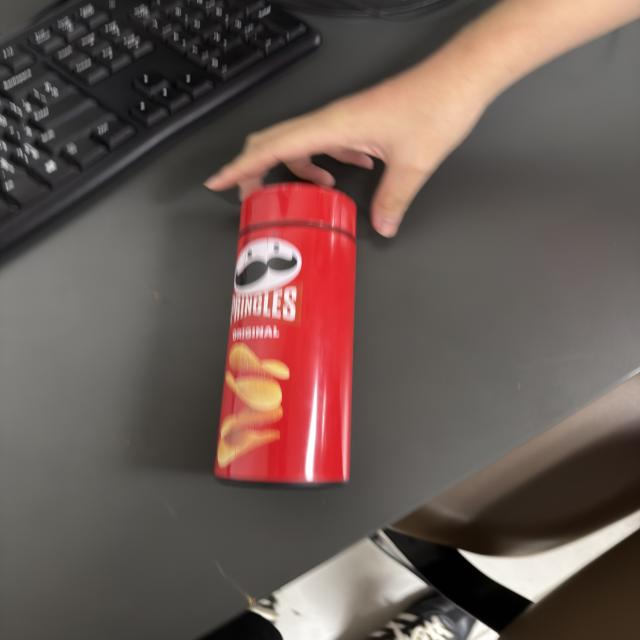water bottle: (212, 180, 358, 488)
